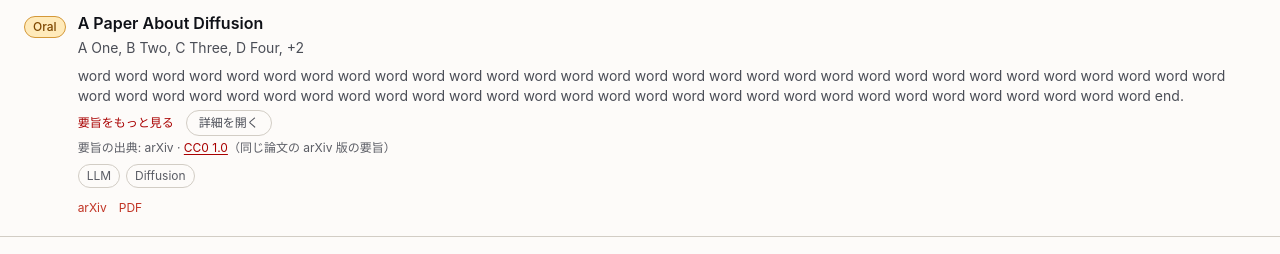
it: CatalogPaperCard › '要旨をもっと見る' widens the preview in place (aria-expanded + aria-controls)
What coordinates should you click on to do the following:
click the button "要旨をもっと見る"
I would click on:
 (126, 123)
Its box is x1=78 y1=111 x2=174 y2=135.
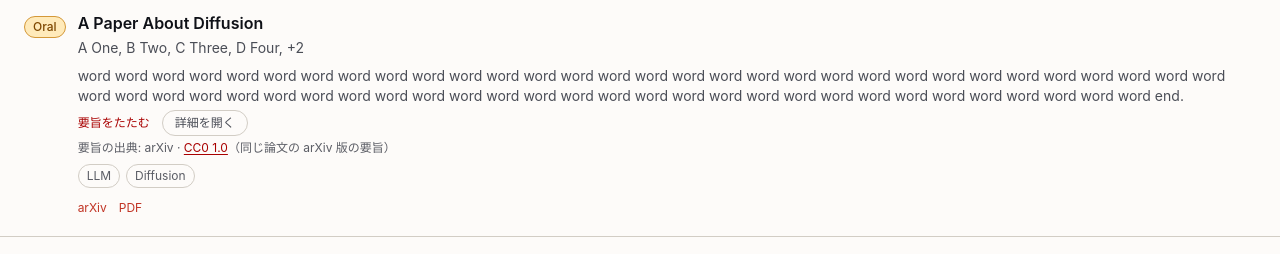
expect the button "要旨をたたむ" is expanded: met, box x1=78 y1=111 x2=150 y2=135
